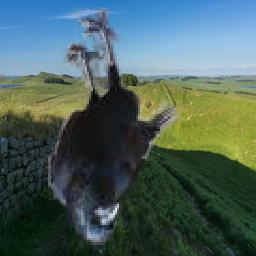Crow: (48, 8, 186, 255)
